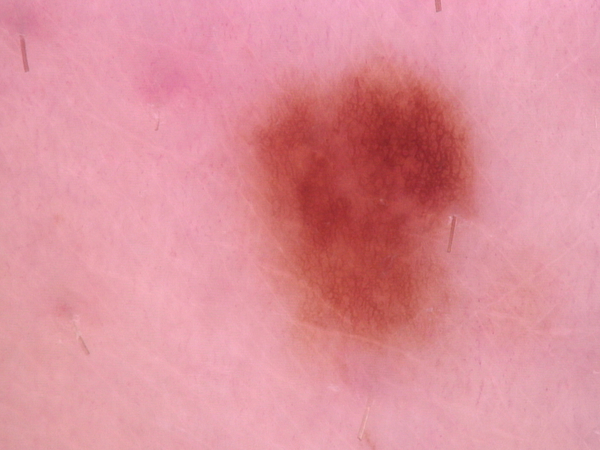Detected Lesion: (245, 54, 483, 342)
